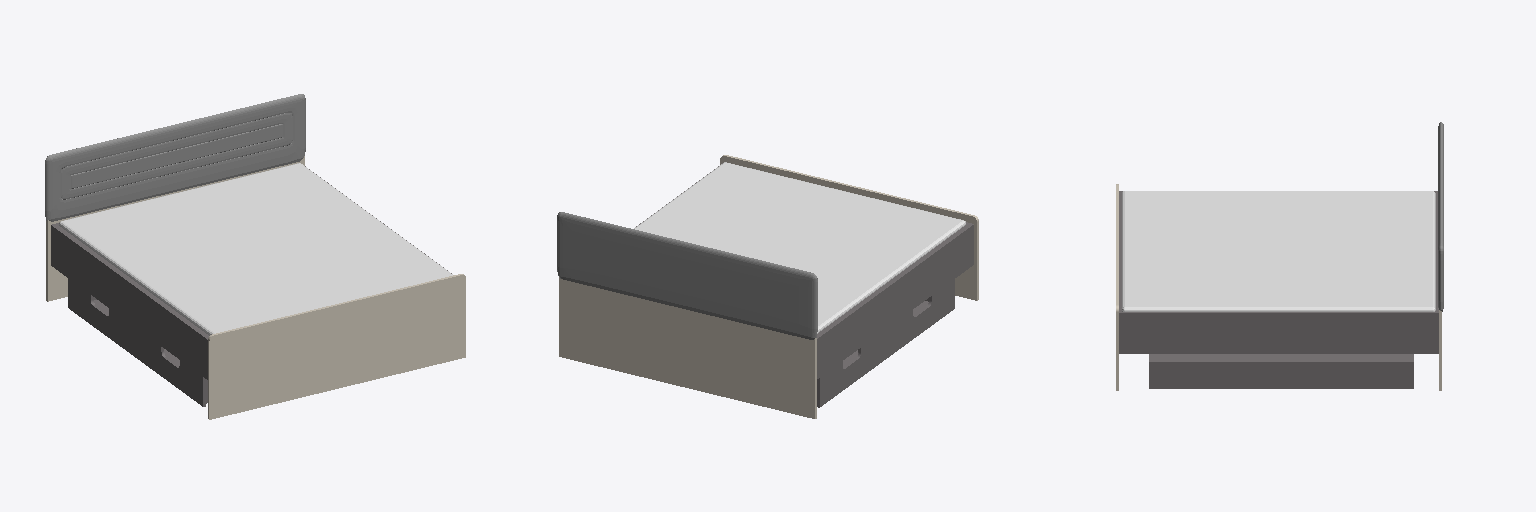
File: 2pir_lozko2os_plaski_szczyt_180_2.obj
3 renders of one model, left to right at view 1: azimuth 30°, elevation 25°; view 2: azimuth 150°, elevation 25°; view 3: azimuth 270°, elevation 25°, orthographic.
Parts seen in each view (by area): view 1: ChamferBox01, Rectangle16, ChamferBox002, Box02, Rectangle01, Rectangle17; view 2: ChamferBox01, Rectangle17, ChamferBox002, Box02, Rectangle01, Rectangle16; view 3: ChamferBox01, Box02, Box01, ChamferBox002, Rectangle16.
Part boxes in pixels (bbox=[...]): ChamferBox01: bbox=[59, 163, 452, 335]; Rectangle16: bbox=[208, 274, 465, 419]; ChamferBox002: bbox=[45, 94, 305, 221]; Box02: bbox=[51, 166, 451, 379]; Rectangle01: bbox=[68, 278, 205, 406]; Rectangle17: bbox=[46, 156, 304, 301]; ChamferBox01: bbox=[634, 162, 965, 333]; Rectangle17: bbox=[559, 277, 816, 418]; ChamferBox002: bbox=[557, 212, 817, 339]; Box02: bbox=[636, 163, 973, 378]; Rectangle01: bbox=[817, 279, 954, 407]; Rectangle16: bbox=[720, 155, 978, 300]; ChamferBox01: bbox=[1122, 191, 1435, 311]; Box02: bbox=[1119, 191, 1438, 353]; Box01: bbox=[1149, 354, 1413, 388]; ChamferBox002: bbox=[1438, 122, 1443, 311]; Rectangle16: bbox=[1116, 184, 1118, 390].
Size of the model in its own units: 187 by 99.73 by 204.